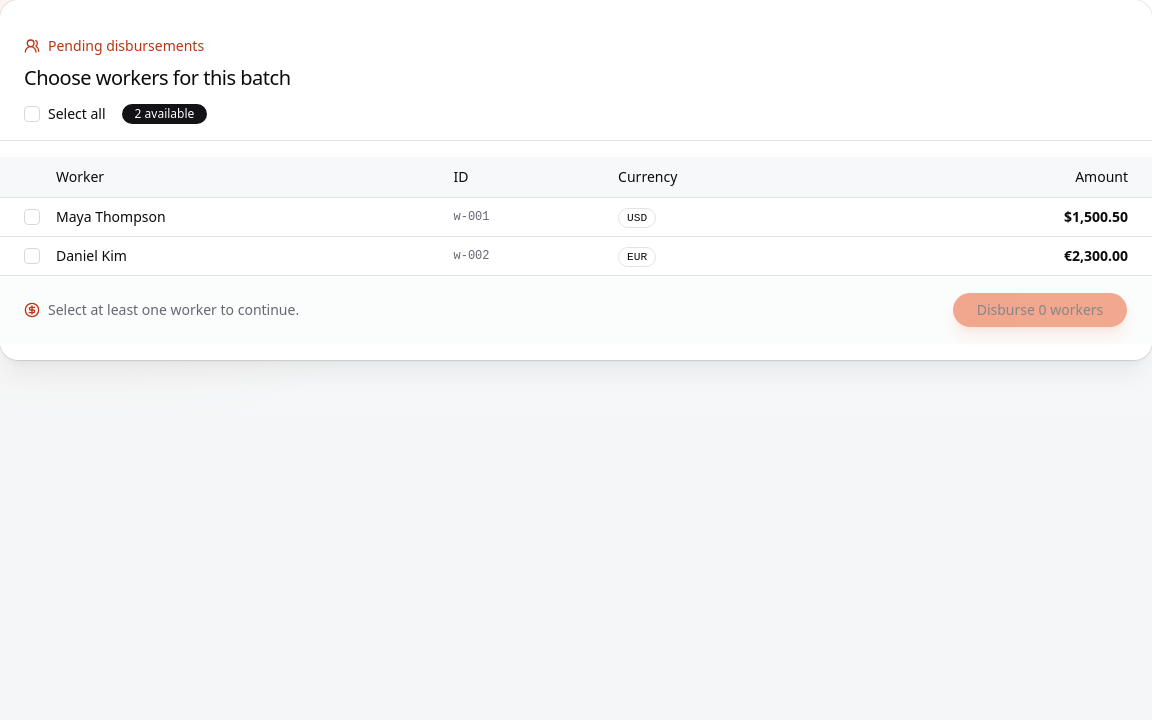
Test: DisbursementDashboard › explains an unavailable worker and requires a fresh confirmation for the remainder
The image size is (1152, 720).
Check: the text "Maya Thompson" is shown, box [56,206,166,226]
Click the checkbox named "Select Maya Thompson": click(32, 216) [24,208,40,224]
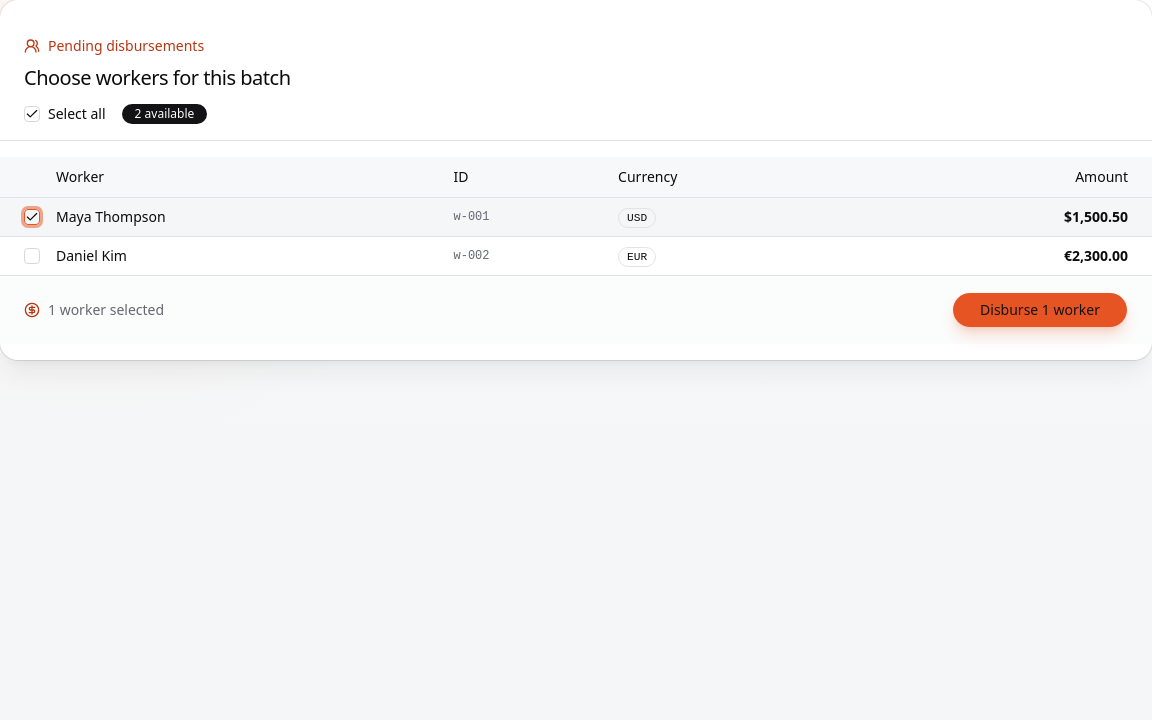
Click the checkbox named "Select Daniel Kim": click(32, 256) [24,248,40,264]
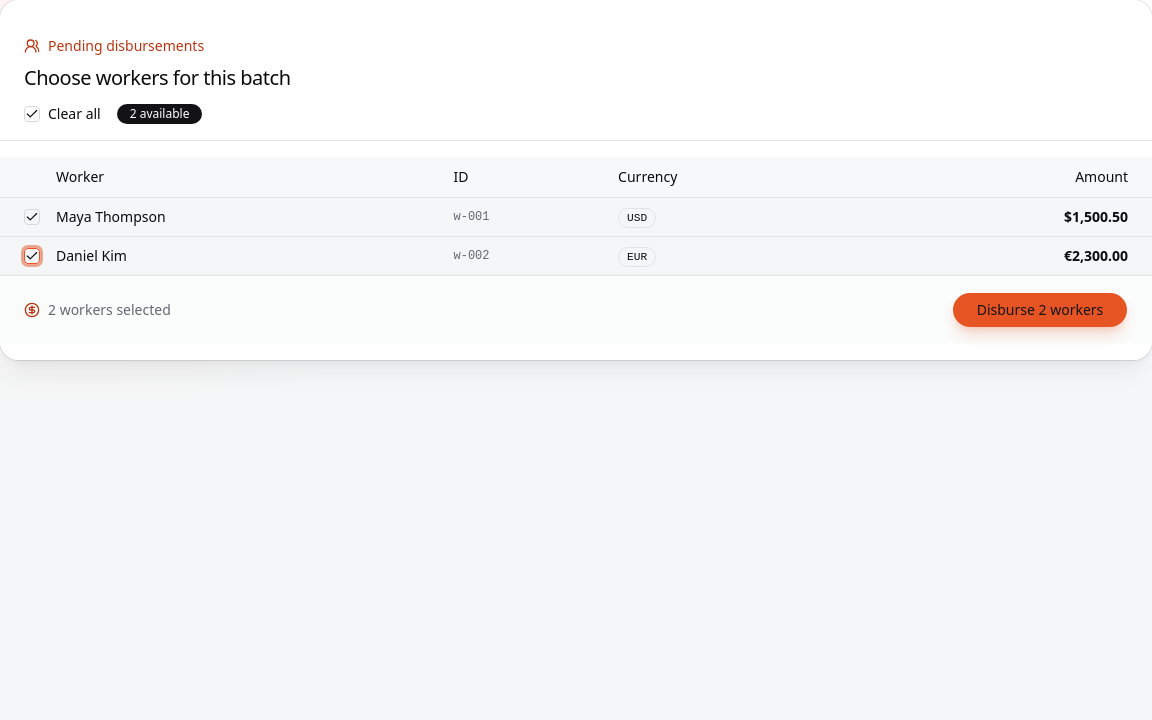
Click the button "Disburse 2 workers": click(1040, 310) [952,292,1128,328]
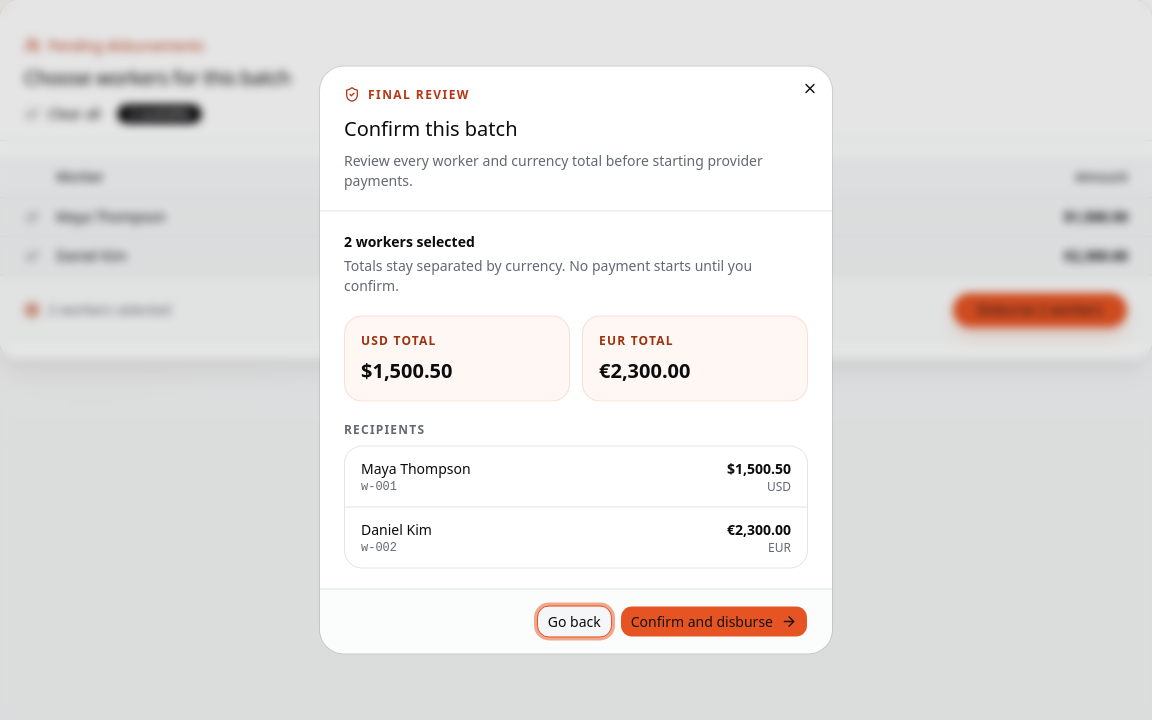
Click the button "Confirm and disburse": click(714, 622) [620,606,808,638]
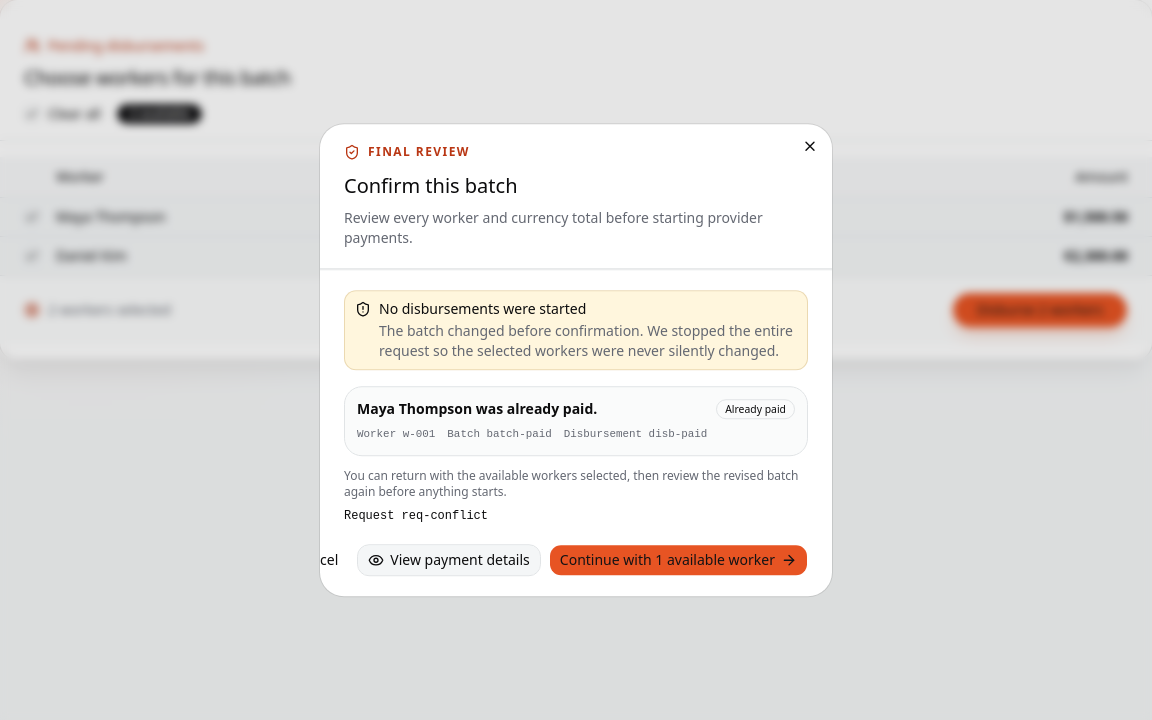
Check: the text "No disbursements were started" is shown, box [379,299,586,318]
Check: the text "Maya Thompson was already paid." is shown, box [357,399,597,419]
Check: the text "Already paid" is shown, box [716,399,795,419]
Click the button "Continue with 1 available worker": click(678, 560) [549,544,808,576]
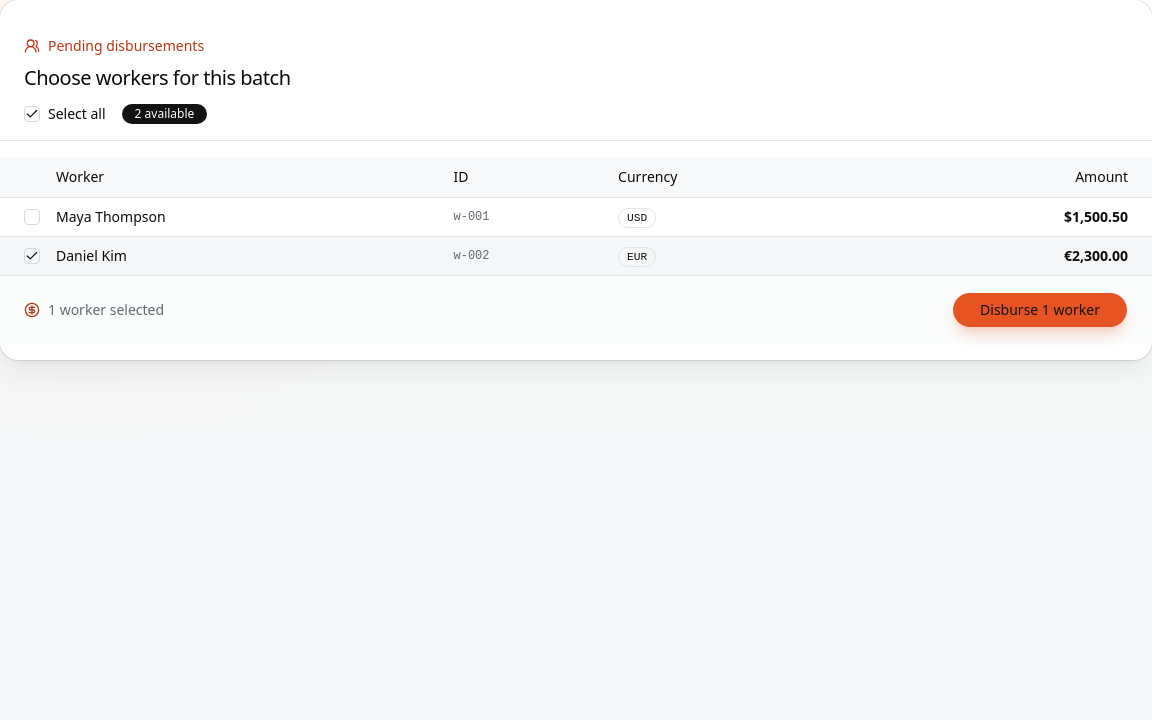
Check: the button "Disburse 1 worker" is enabled
Check: the dialog is gone
Click the button "Disburse 1 worker": click(1040, 310) [952,292,1128,328]
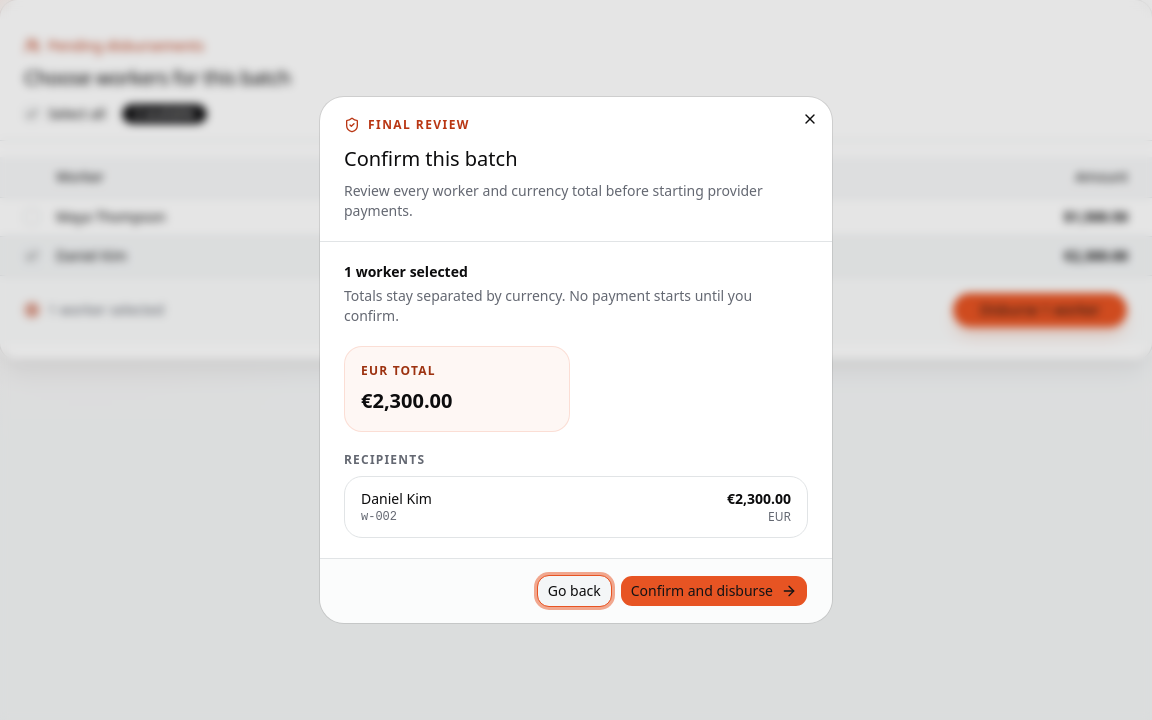
Check: the text "Daniel Kim" is shown, box [361,489,432,509]
